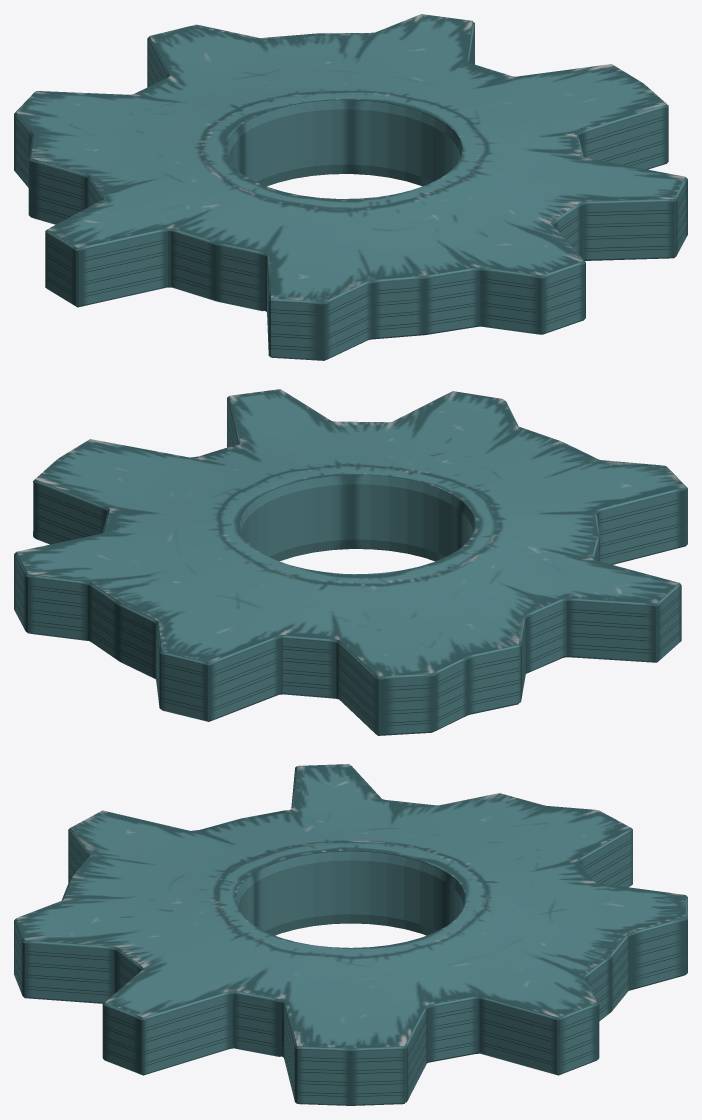
Rendered from Gear1.fbx.
The picture shows the model from 3 angles, top to bottom: view 1: azimuth 30°, elevation 25°; view 2: azimuth 150°, elevation 25°; view 3: azimuth 270°, elevation 25°; orthographic projection. The views are drawn at different scales.
Visible parts, largest first — view 1: pCylinder2; view 2: pCylinder2; view 3: pCylinder2.
Part boxes in pixels (<box>): pCylinder2: <box>14,14,687,360</box>; pCylinder2: <box>14,389,687,735</box>; pCylinder2: <box>14,764,687,1105</box>.
Size of the model in its own units: 3.77 by 0.448 by 3.76.
